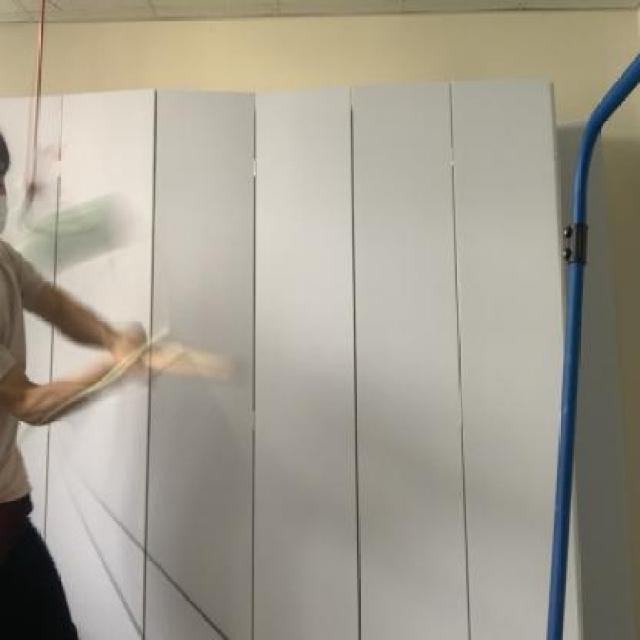baseball: (5, 186, 143, 294)
